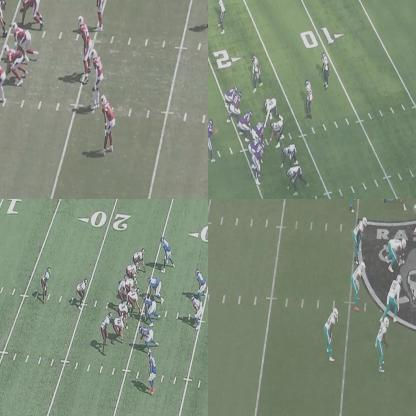CENTER: (128, 288, 142, 315), (253, 120, 267, 142), (0, 0, 7, 34)
DB: (102, 95, 116, 153), (325, 308, 338, 362), (378, 314, 390, 361), (92, 0, 105, 30), (216, 0, 227, 35), (320, 50, 330, 85), (148, 350, 156, 389)
LB: (78, 17, 93, 80), (92, 46, 106, 104), (354, 257, 366, 296), (191, 296, 204, 330), (196, 270, 208, 300), (356, 219, 367, 250), (254, 53, 262, 88), (0, 52, 5, 107), (305, 82, 312, 119), (349, 199, 363, 208)
QB: (208, 117, 214, 160), (118, 273, 127, 297)
SKILL: (102, 314, 112, 352), (40, 268, 51, 302), (224, 86, 238, 105), (75, 280, 86, 304), (133, 245, 144, 261)
